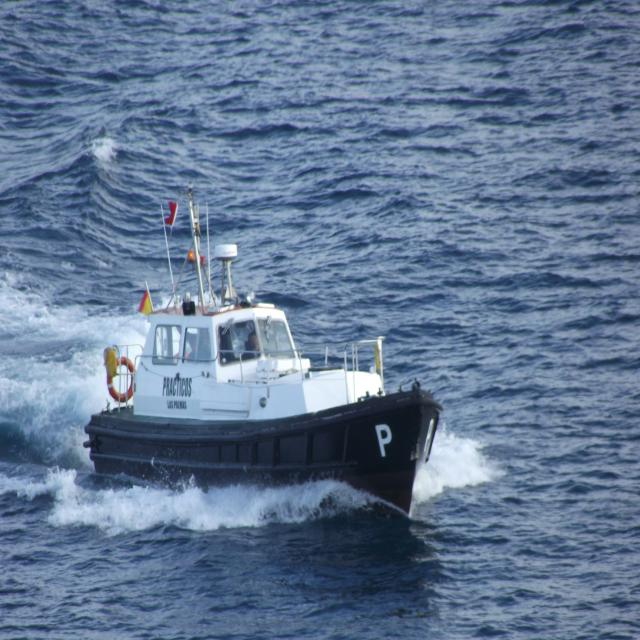houseboat: (75, 231, 429, 517)
